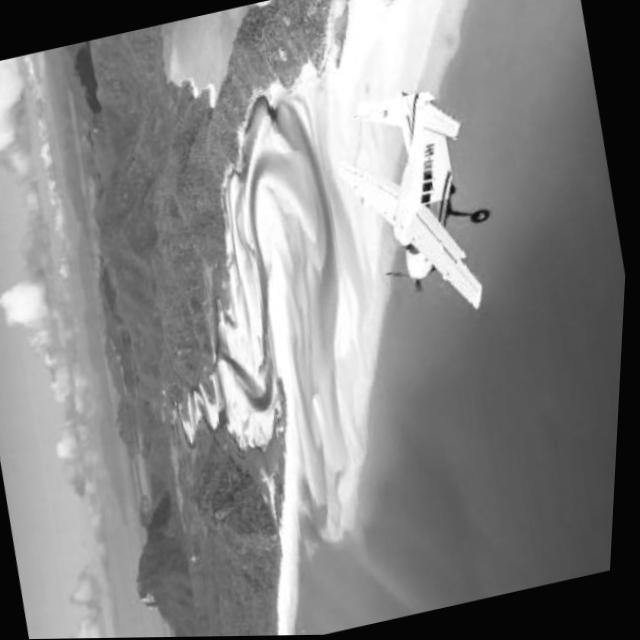aeroplane: (304, 64, 521, 343)
